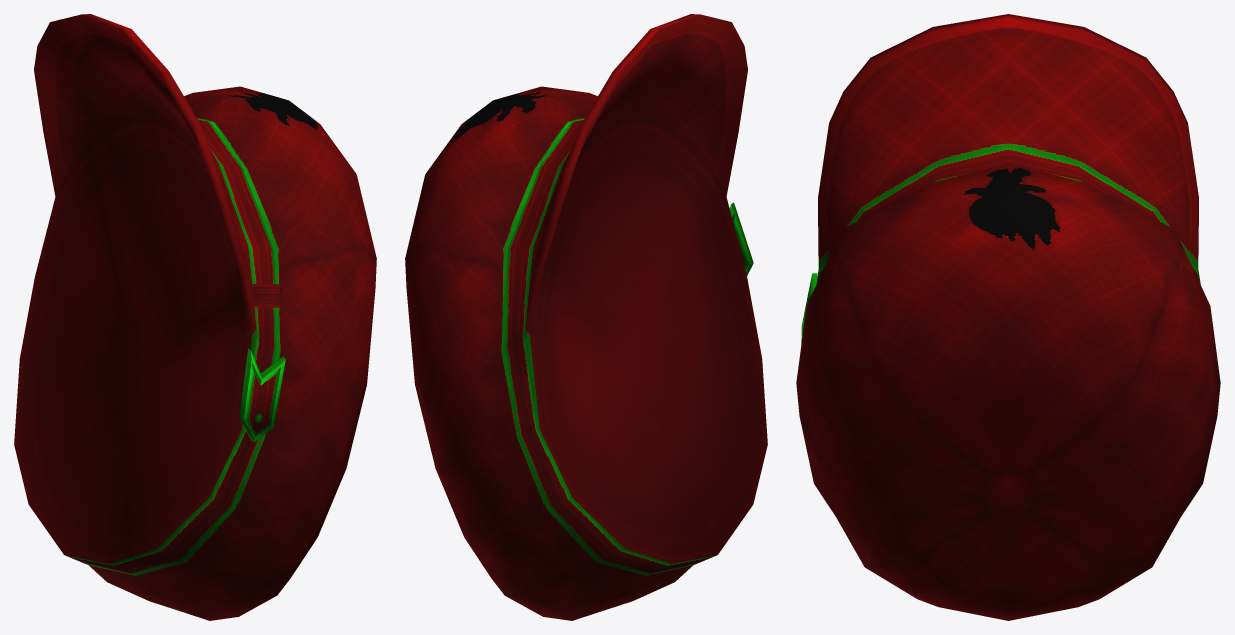
The picture shows the model from 3 angles, left to right: view 1: azimuth 30°, elevation 25°; view 2: azimuth 150°, elevation 25°; view 3: azimuth 270°, elevation 25°; orthographic projection. The views are drawn at different scales.
Parts seen in each view (by area): view 1: F1155; view 2: F1155; view 3: F1155.
Boxes of the visible parts, left/top/right/bottom form: F1155: left=14, top=14, right=376, bottom=620; F1155: left=405, top=14, right=767, bottom=620; F1155: left=796, top=14, right=1220, bottom=620.
Size of the model in its own units: 0.2671 by 0.5616 by 0.3789.
